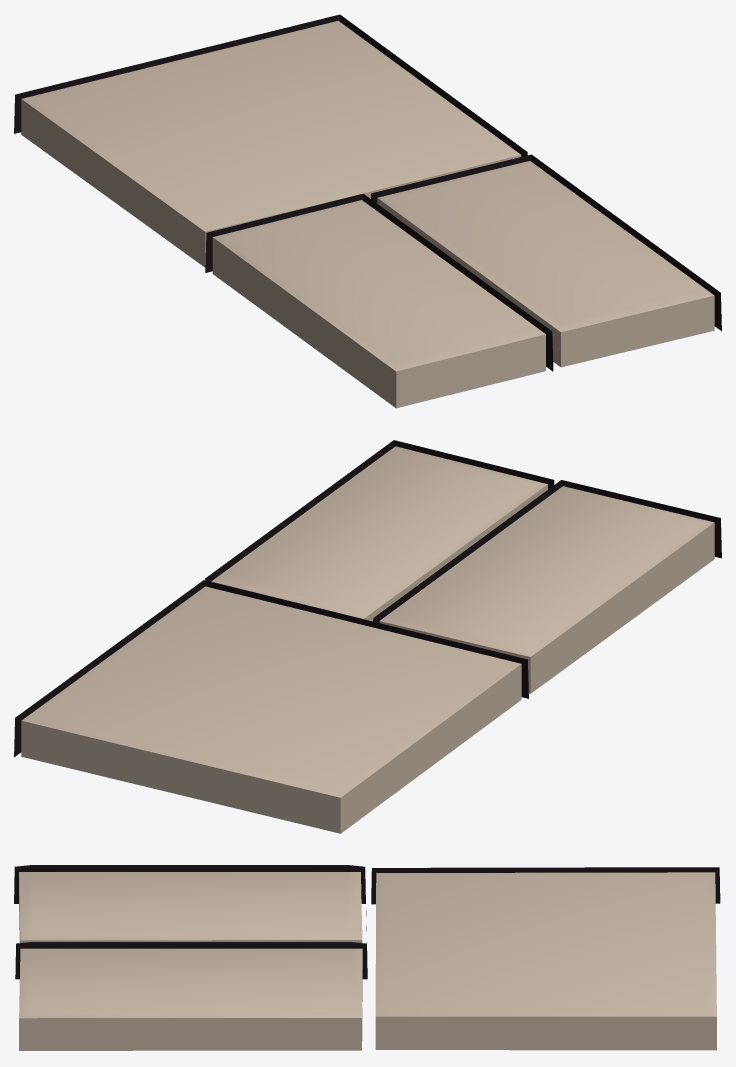
File: SM_Trail_Paving_03.fbx
3 renders of one model, top to bottom at view 1: azimuth 30°, elevation 25°; view 2: azimuth 150°, elevation 25°; view 3: azimuth 270°, elevation 25°, orthographic. The views are drawn at different scales.
Parts seen in each view (by area): view 1: SM_Trail_Paving_03; view 2: SM_Trail_Paving_03; view 3: SM_Trail_Paving_03.
Part boxes in pixels (<box>): SM_Trail_Paving_03: <box>14,14,721,408</box>; SM_Trail_Paving_03: <box>14,440,721,833</box>; SM_Trail_Paving_03: <box>14,865,720,1050</box>.
Bounding box in the file's own units: 1.49 × 0.201 × 2.99.
